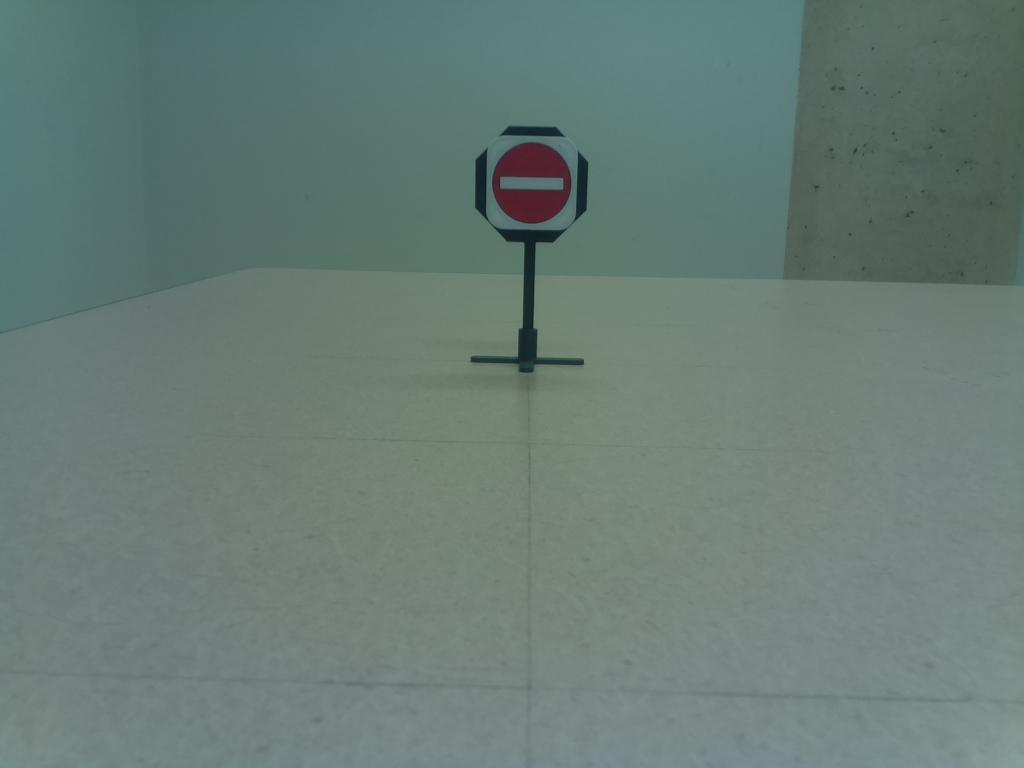sign_noentry: (465, 116, 597, 250)
